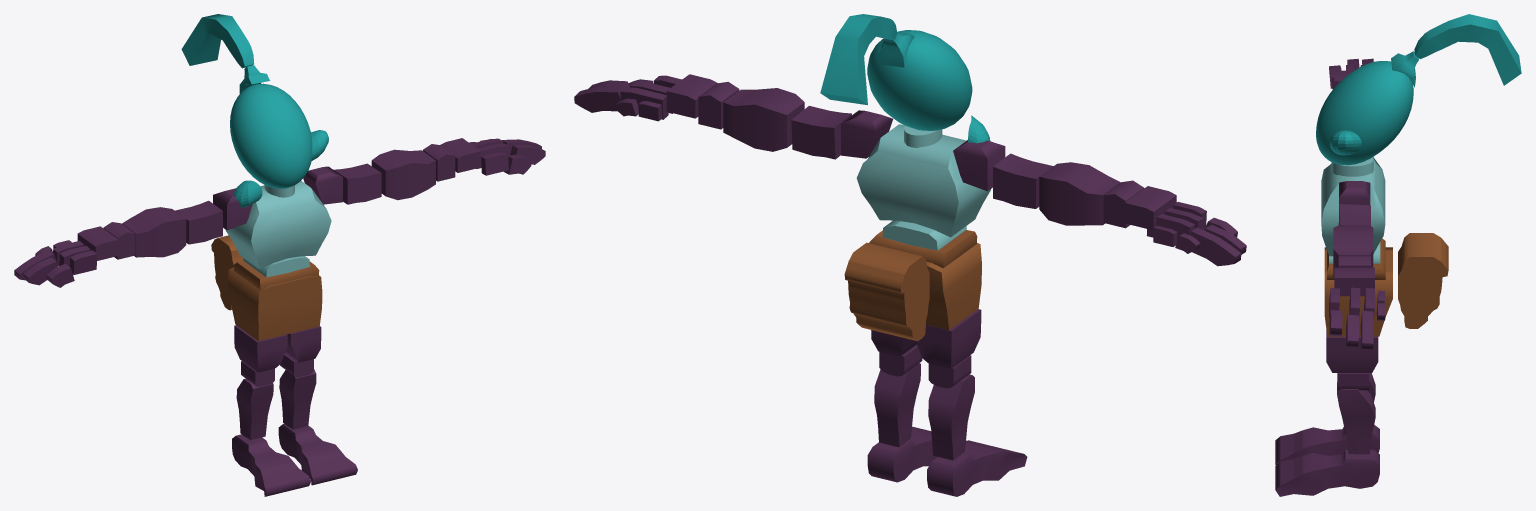
Rendered from AbeModel.fbx.
3 renders of one model, left to right at view 1: azimuth 30°, elevation 25°; view 2: azimuth 150°, elevation 25°; view 3: azimuth 270°, elevation 25°, orthographic. The views are drawn at different scales.
Parts seen in each view (by area): view 1: Head1, Torso, Hips, RightFoot, LeftFoot, LeftForeArm, RForeArm, RightCalve, LeftCalve, RightQuad, RArm, LeftBicep (+16 smaller); view 2: Head1, Torso, SashBehind, LeftForeArm, RForeArm, Hips, RightFoot, RightCalve, LeftCalve, LeftFoot, RightQuad, LeftBicep (+17 smaller); view 3: Head1, SashBehind, LeftFoot, Torso, RightFoot, LeftCalve, Hips, LeftQuad, LeftForeArm, LeftPalm, Leftshoulder, LeftRingFinger (+8 smaller).
Part boxes in pixels (x1,y1,x2,y2): Head1: (181, 14, 312, 188); Torso: (226, 181, 331, 269); Hips: (227, 267, 322, 341); RightFoot: (232, 434, 310, 496); LeftFoot: (278, 424, 357, 485); LeftForeArm: (371, 149, 435, 200); RForeArm: (122, 207, 186, 257); RightCalve: (236, 378, 273, 440); LeftCalve: (279, 369, 316, 429); RightQuad: (234, 325, 287, 372); RArm: (175, 200, 222, 244); LeftBicep: (333, 163, 381, 204); Head1: (820, 14, 972, 130); Torso: (856, 124, 990, 237); SashBehind: (844, 242, 929, 341); LeftForeArm: (723, 88, 804, 151); RForeArm: (1039, 162, 1120, 225); Hips: (926, 243, 981, 330); RightFoot: (927, 440, 1027, 496); RightCalve: (928, 374, 974, 460); LeftCalve: (874, 363, 920, 447); LeftFoot: (867, 426, 966, 482); RightQuad: (915, 309, 981, 368); LeftBicep: (791, 105, 851, 159); Head1: (1316, 14, 1521, 165); SashBehind: (1398, 233, 1448, 328); LeftFoot: (1275, 449, 1379, 496); Torso: (1321, 157, 1385, 256); RightFoot: (1275, 425, 1379, 464); LeftCalve: (1337, 382, 1375, 454); Hips: (1324, 247, 1392, 336); LeftQuad: (1326, 330, 1378, 372); LeftForeArm: (1333, 225, 1373, 277); LeftPalm: (1334, 267, 1374, 296); Leftshoulder: (1339, 181, 1370, 215); LeftRingFinger: (1360, 288, 1374, 349).
Bounding box in the file's own units: 9.08 × 6.78 × 3.33.
